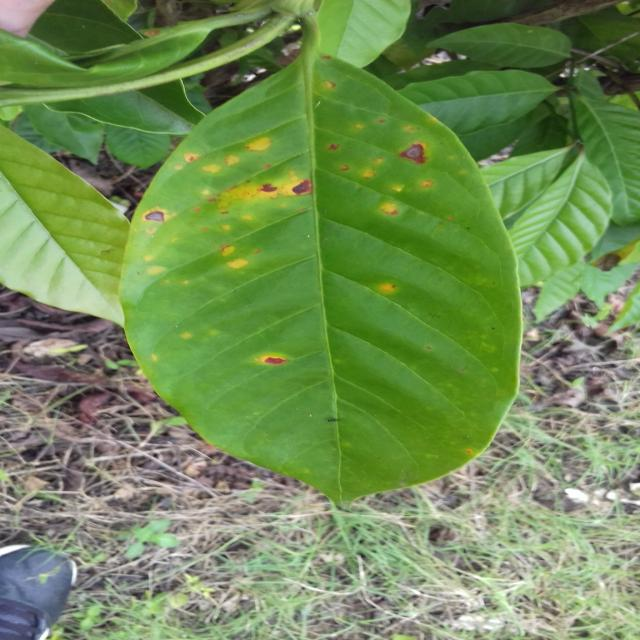Enfermedad-Roya: (116, 59, 524, 506)
